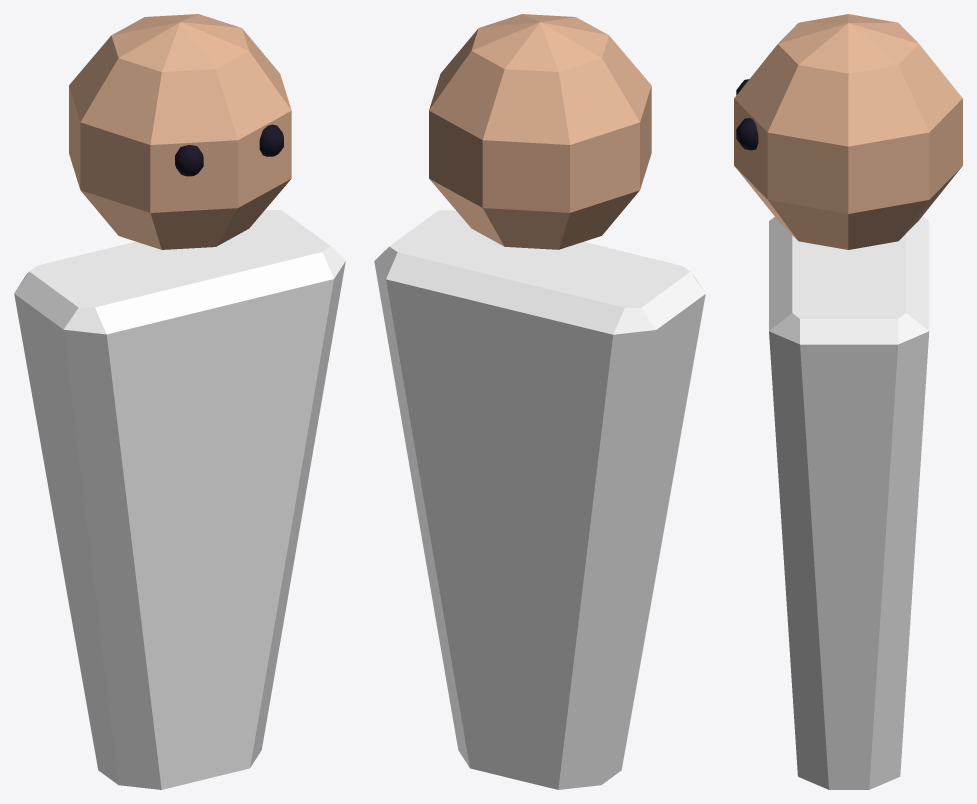
File: human.fbx
The picture shows the model from 3 angles, left to right: view 1: azimuth 30°, elevation 25°; view 2: azimuth 150°, elevation 25°; view 3: azimuth 270°, elevation 25°; orthographic projection.
Visible parts, largest first — view 1: Customer; view 2: Customer; view 3: Customer.
Part boxes in pixels (x1,y1,x2,y2): Customer: [14, 14, 345, 789]; Customer: [374, 14, 705, 789]; Customer: [734, 14, 962, 789].
Size of the model in its own units: 65.9 by 165 by 46.63.
